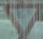Give way: (4, 0, 38, 38)
